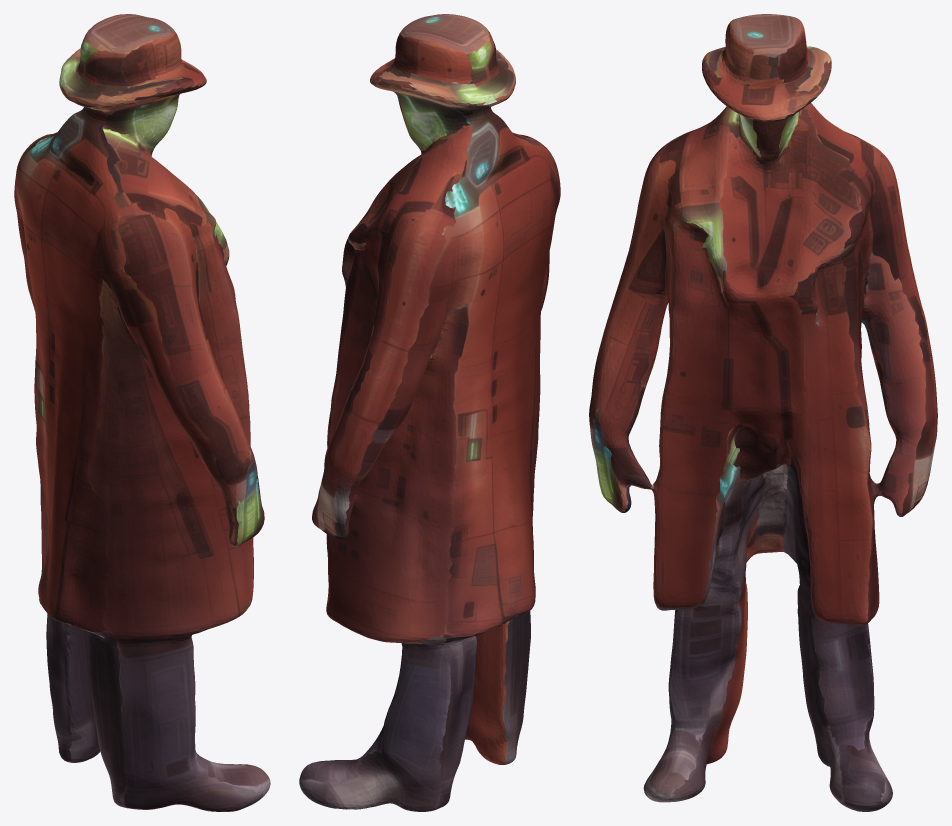
Rendered from textured_paint3d.glb.
3 views of the same model, side by side, from view 1: azimuth 30°, elevation 25°; view 2: azimuth 150°, elevation 25°; view 3: azimuth 270°, elevation 25° (orthographic).
Visible parts, largest first — view 1: Node-Mesh; view 2: Node-Mesh; view 3: Node-Mesh.
Part boxes in pixels (x1,y1,x2,y2): Node-Mesh: (14, 14, 270, 811); Node-Mesh: (299, 14, 560, 811); Node-Mesh: (589, 14, 937, 811).
Bounding box in the file's own units: 0.4902 × 2 × 0.8446.
Materials: 1 (1 with a texture image).
